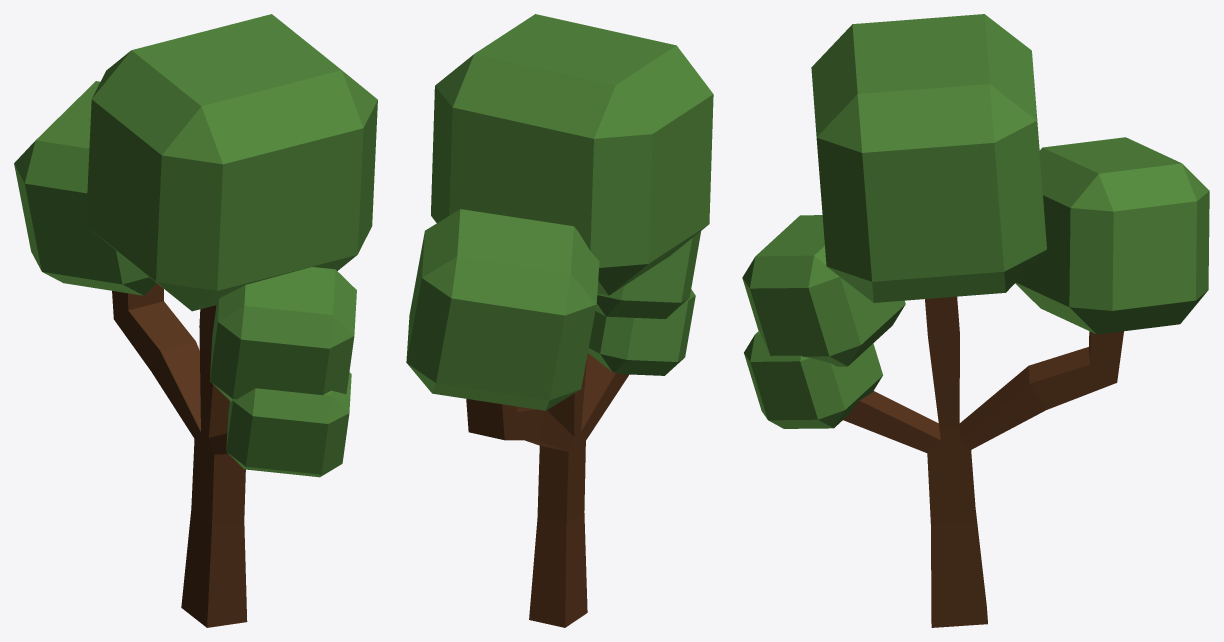
File: Arbol.fbx
3 renders of one model, left to right at view 1: azimuth 30°, elevation 25°; view 2: azimuth 150°, elevation 25°; view 3: azimuth 270°, elevation 25°, orthographic. The views are drawn at different scales.
Parts seen in each view (by area): view 1: tree4.109; view 2: tree4.109; view 3: tree4.109.
Part boxes in pixels (box(x1,y1,x2,y2)): tree4.109: box(14, 14, 377, 627); tree4.109: box(406, 14, 713, 627); tree4.109: box(742, 14, 1209, 627).
Size of the model in its own units: 1.05 by 2.52 by 1.87.
